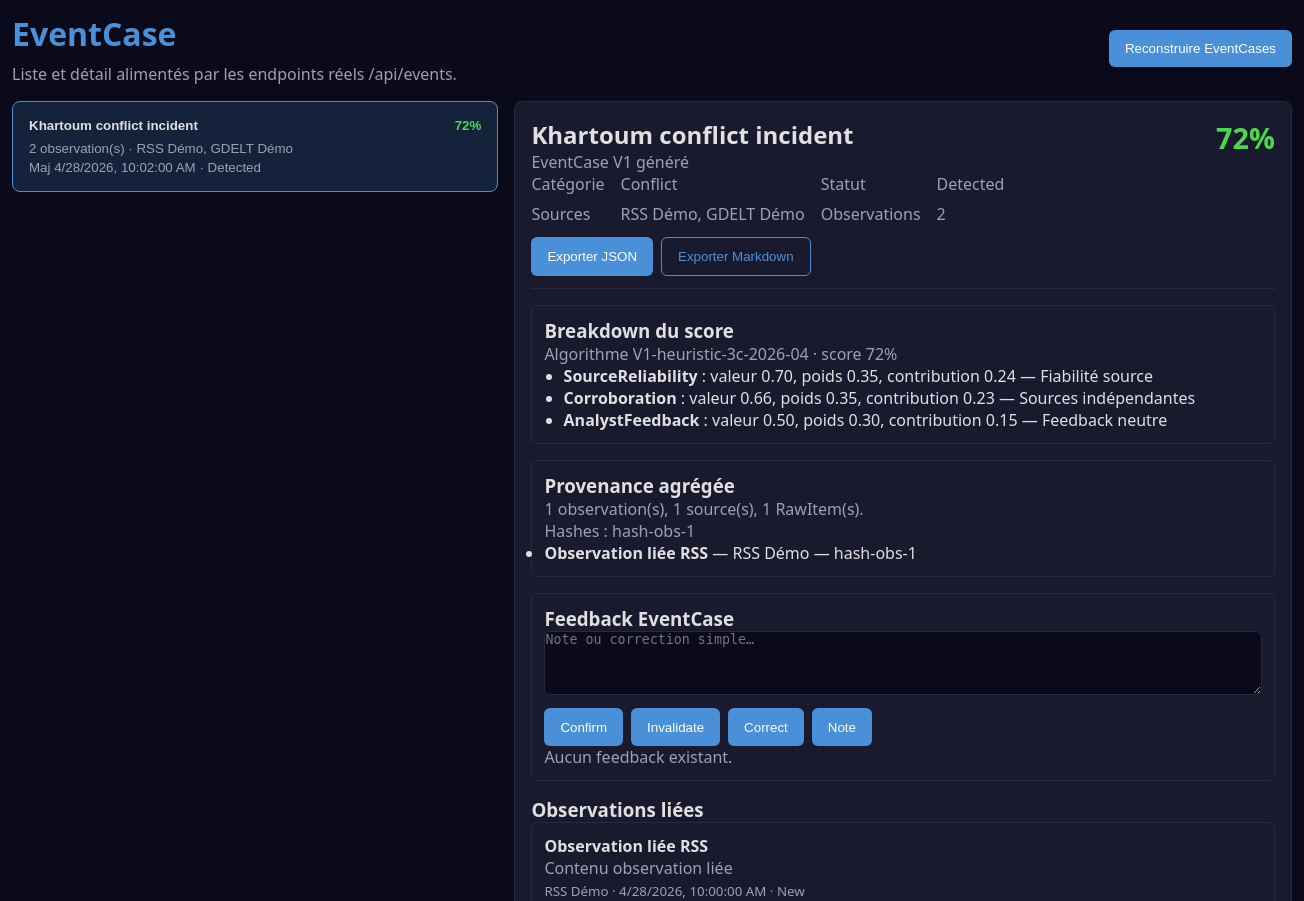
Test: EventCase view › exports selected EventCase as JSON and Markdown with mock API
This screenshot has width=1304, height=901.
Click the button "Exporter JSON": [592, 257] box [531,237,653,276]
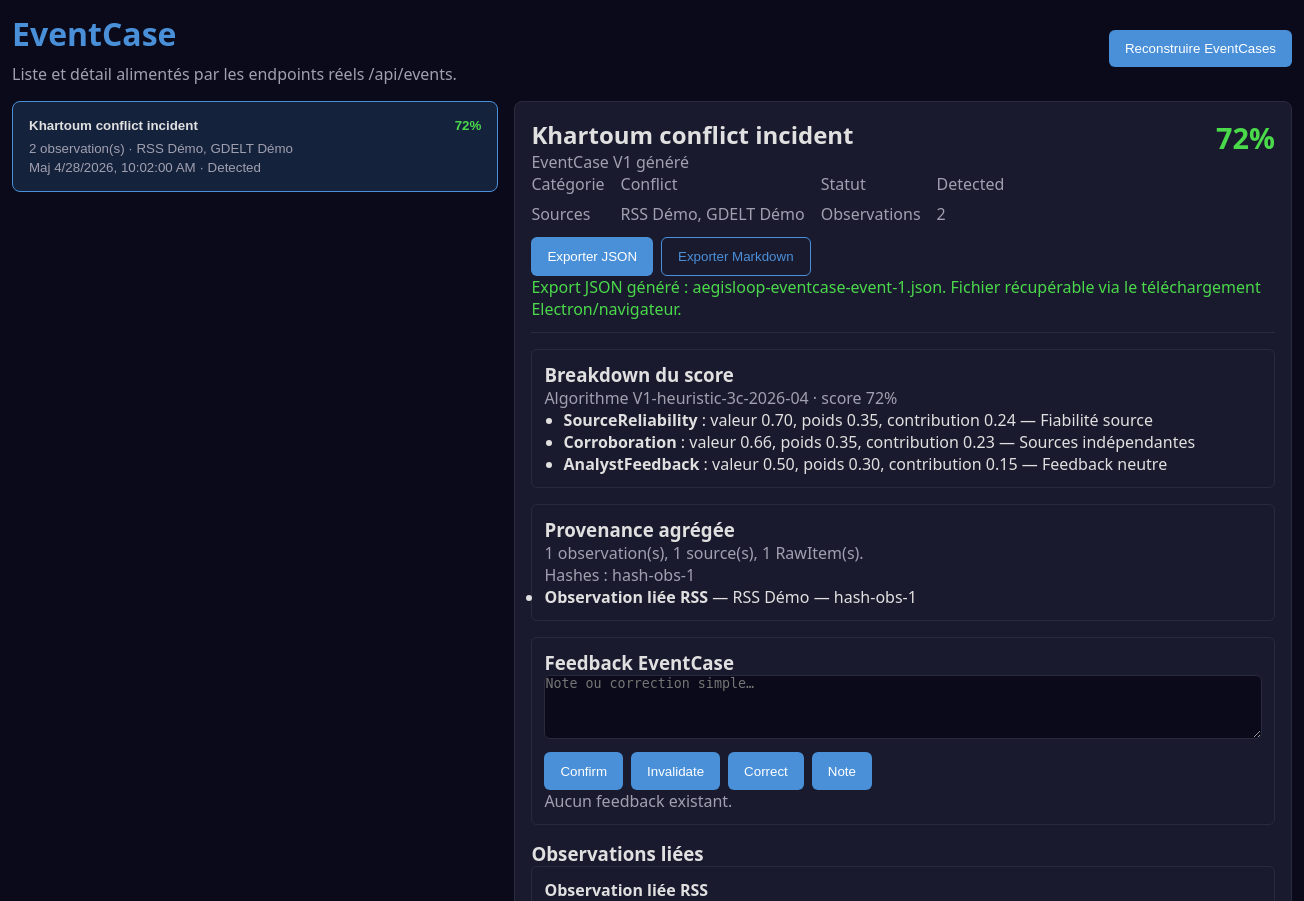
Now the text "aegisloop-eventcase-event-1.json" is shown, box [531,276,1261,320]
Click the button "Exporter Markdown": [736, 257] box [661,237,811,276]
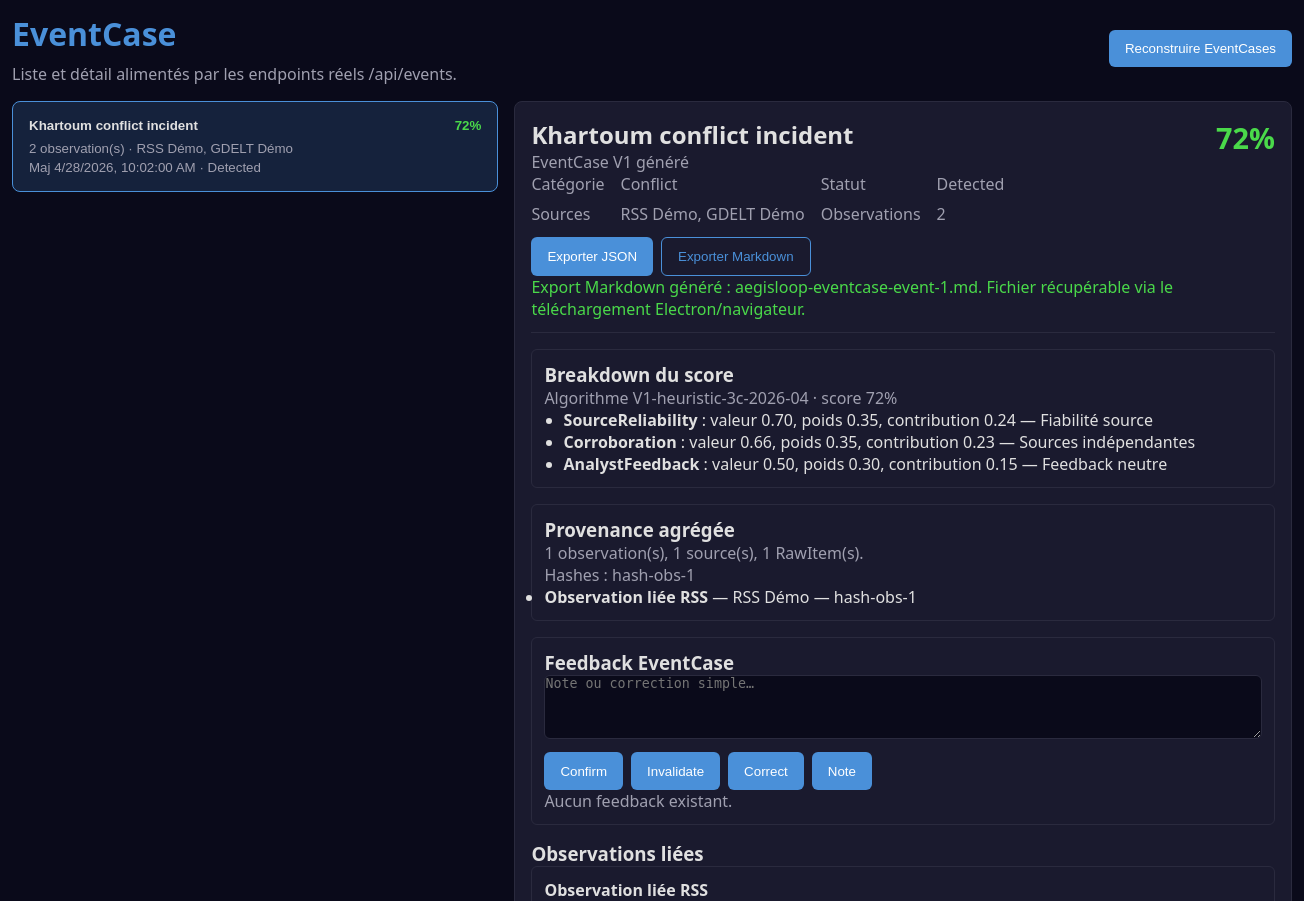
Now the text "aegisloop-eventcase-event-1.md" is shown, box [531,276,1173,320]
